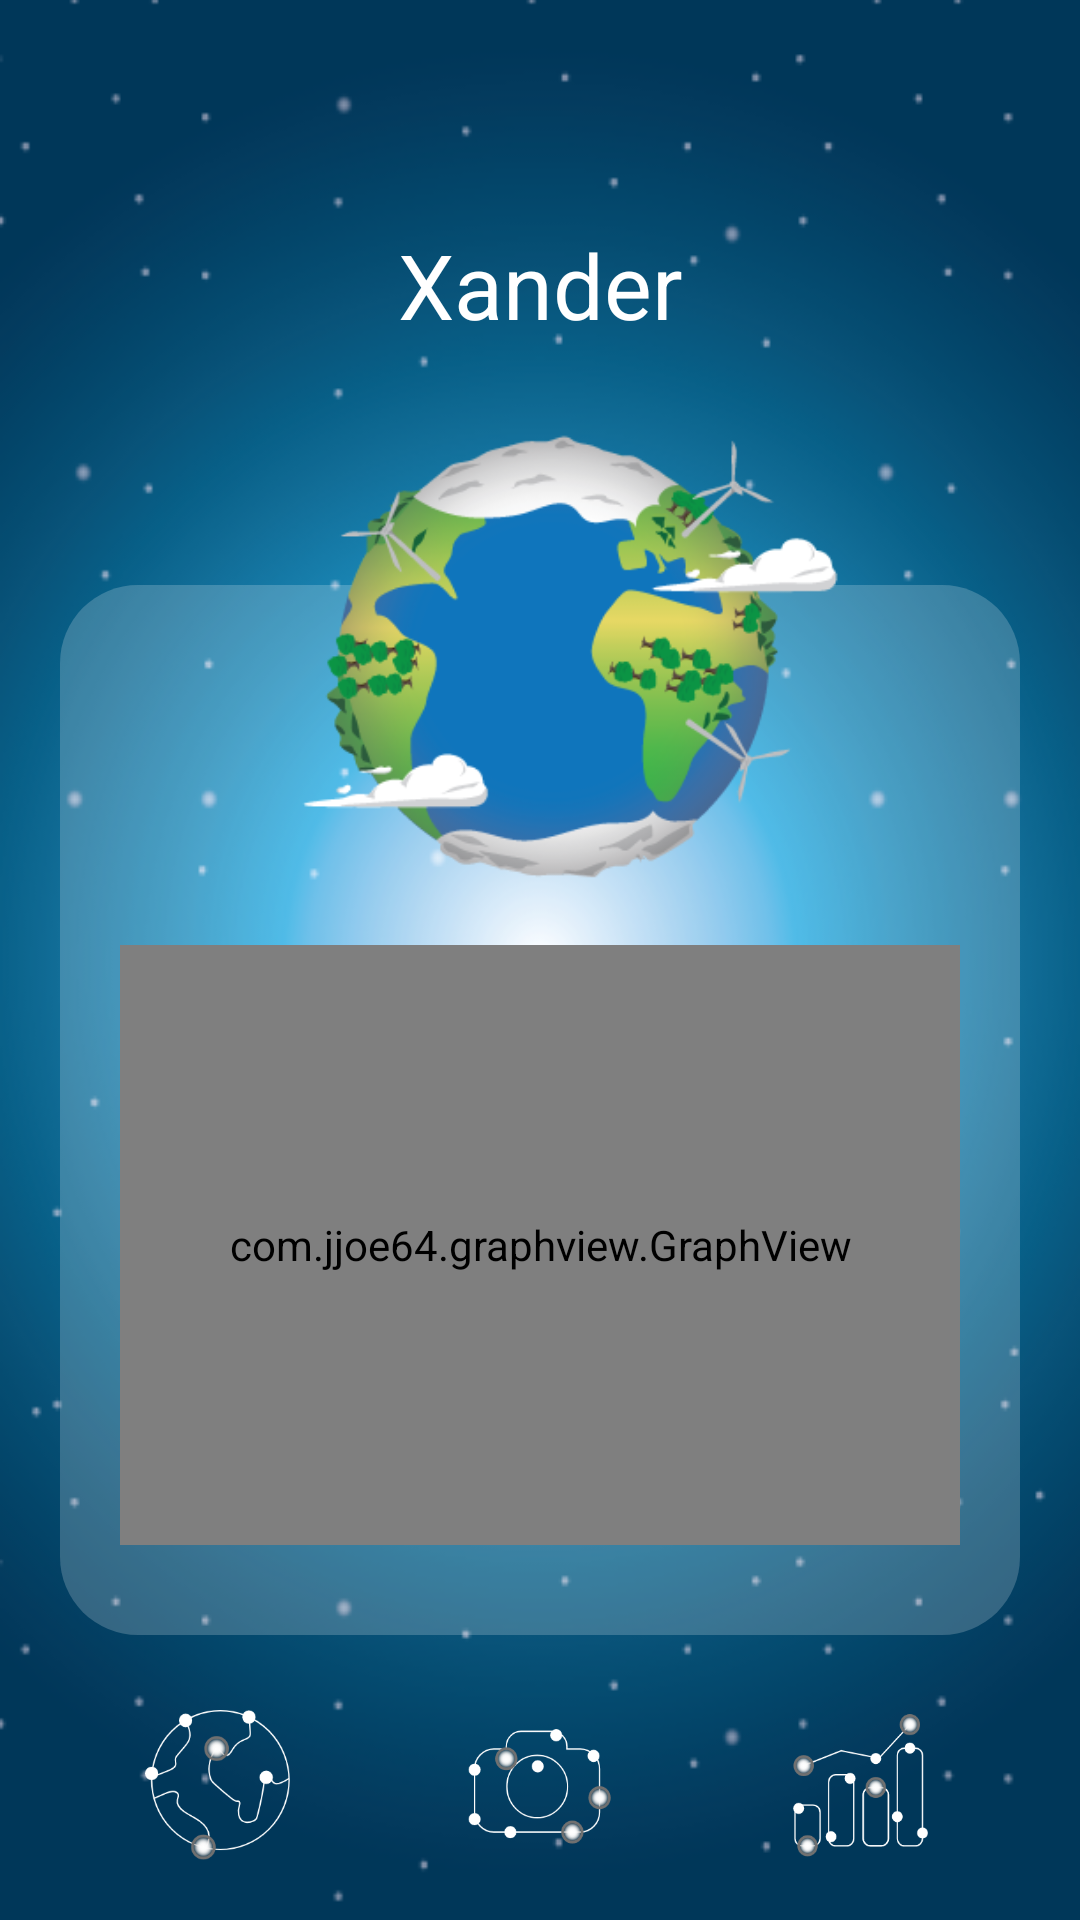

Named icons in this screenshot (1080px x 1920px) and their centers, [x,y]:
Menu icon of a camera: [539,1788]
Menu icon of a graphic chart: [860,1785]
Menu icon of a planet: [217,1785]
